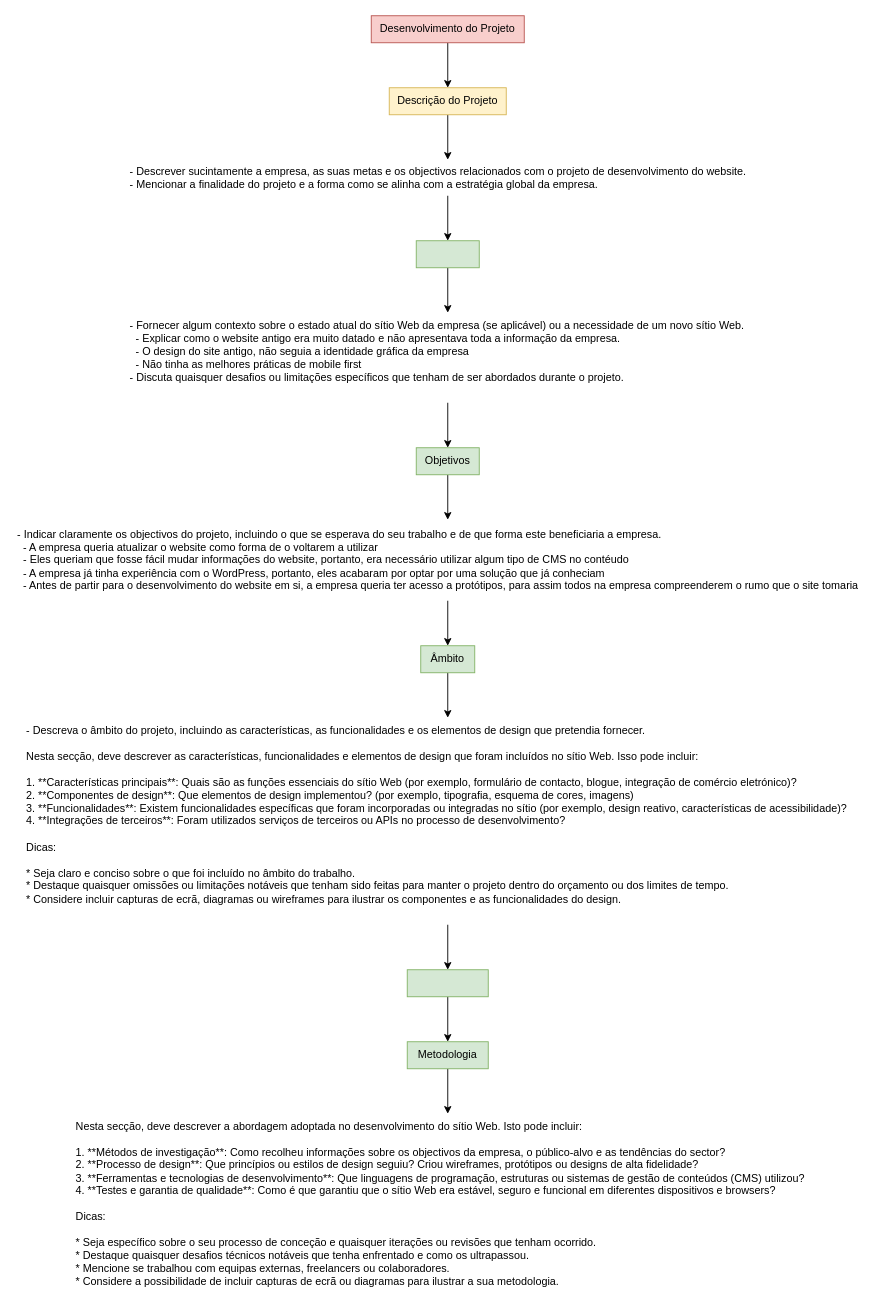
The diagram is 895 pixels wide and 1310 high, and some of its shapes have lost their labels. The shapes that lost their labels are listed below. From the top down, each one's centre as x and y in pixels, then its label:
At point 447,254: "Contexto".
At point 447,983: "Cronograma".
